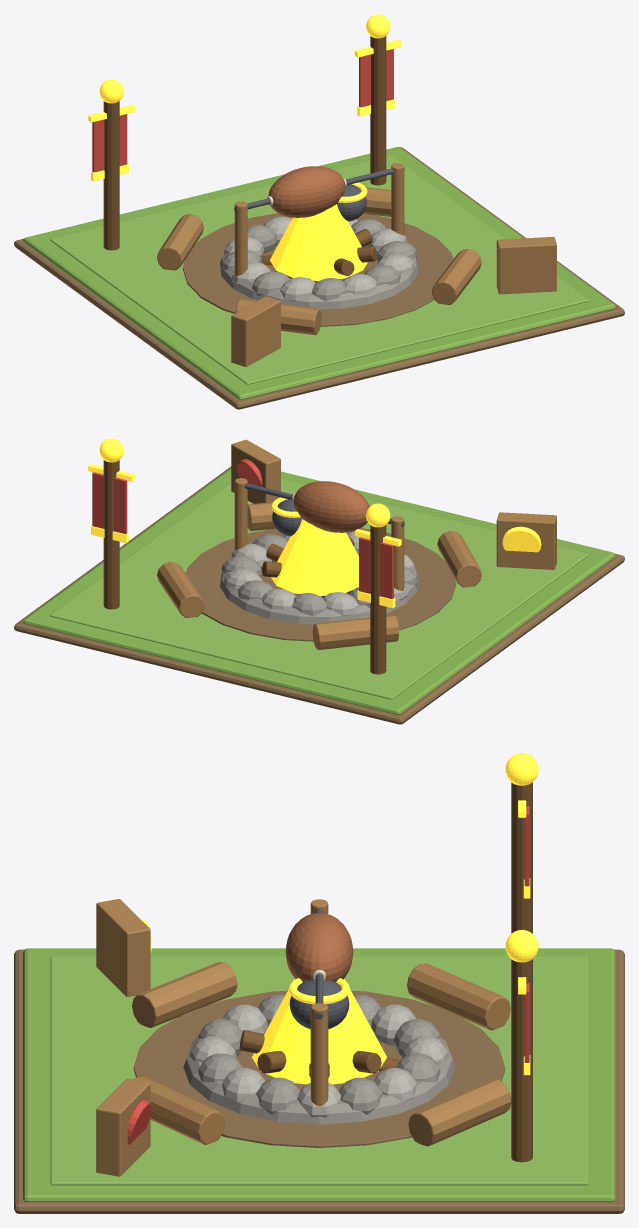
The model's file is army_camp_lv4.glb.
3 renders of one model, top to bottom at view 1: azimuth 30°, elevation 25°; view 2: azimuth 150°, elevation 25°; view 3: azimuth 270°, elevation 25°, orthographic. The views are drawn at different scales.
Parts seen in each view (by area): view 1: Base_Inner, Base_Grass, CampDirtPatch, Base_Dirt, FlameOuter, CampRackFrame_1, RoastMeat, CampRackFrame_-1, TotemPole_-1, PavedHearthRing, TotemPole_1, LogBench_5.45 (+12 smaller); view 2: Base_Inner, Base_Grass, CampDirtPatch, Base_Dirt, FlameOuter, RoastMeat, CampRackFrame_-1, PavedHearthRing, TotemPole_1, TotemPole_-1, LogBench_2.35, CampRackFrame_1 (+19 smaller); view 3: Base_Inner, Base_Grass, CampDirtPatch, Base_Dirt, FlameOuter, PavedHearthRing, CampRackFrame_-1, TotemPole_1, LogBench_3.90, LogBench_2.35, LogBench_0.80, CampRackFrame_1 (+23 smaller).
Part boxes in pixels (x1=…): Base_Inner: x1=50, y1=155, x2=588, y2=384; Base_Grass: x1=23, y1=147, x2=615, y2=399; CampDirtPatch: x1=182, y1=213, x2=453, y2=326; Base_Dirt: x1=14, y1=147, x2=624, y2=409; FlameOuter: x1=269, y1=204, x2=367, y2=281; CampRackFrame_1: x1=496, y1=236, x2=556, y2=294; RoastMeat: x1=268, y1=166, x2=345, y2=217; CampRackFrame_-1: x1=231, y1=296, x2=280, y2=366; TotemPole_-1: x1=103, y1=101, x2=119, y2=250; PavedHearthRing: x1=220, y1=253, x2=418, y2=309; TotemPole_1: x1=370, y1=36, x2=386, y2=185; LogBench_5.45: x1=431, y1=249, x2=481, y2=304; Base_Inner: x1=50, y1=479, x2=588, y2=699; Base_Grass: x1=23, y1=468, x2=615, y2=714; CampDirtPatch: x1=185, y1=528, x2=456, y2=641; Base_Dirt: x1=14, y1=466, x2=624, y2=724; FlameOuter: x1=271, y1=519, x2=358, y2=596; RoastMeat: x1=293, y1=481, x2=369, y2=532; CampRackFrame_-1: x1=496, y1=512, x2=556, y2=569; PavedHearthRing: x1=220, y1=568, x2=418, y2=624; TotemPole_1: x1=103, y1=460, x2=119, y2=609; TotemPole_-1: x1=370, y1=525, x2=386, y2=674; LogBench_2.35: x1=312, y1=615, x2=398, y2=649; CampRackFrame_1: x1=231, y1=439, x2=280, y2=503; Base_Inner: x1=50, y1=956, x2=588, y2=1185; Base_Grass: x1=23, y1=948, x2=615, y2=1201; CampDirtPatch: x1=133, y1=990, x2=505, y2=1147; Base_Dirt: x1=14, y1=949, x2=624, y2=1213; FlameOuter: x1=252, y1=978, x2=386, y2=1084; PavedHearthRing: x1=183, y1=1036, x2=455, y2=1124; CampRackFrame_-1: x1=96, y1=899, x2=150, y2=996; TotemPole_1: x1=511, y1=959, x2=532, y2=1162; LogBench_3.90: x1=132, y1=962, x2=237, y2=1027; LogBench_2.35: x1=407, y1=963, x2=510, y2=1030; LogBench_0.80: x1=408, y1=1079, x2=511, y2=1146; CampRackFrame_1: x1=96, y1=1078, x2=150, y2=1176.
Size of the model in its own units: 3.68 by 1.62 by 3.68.
